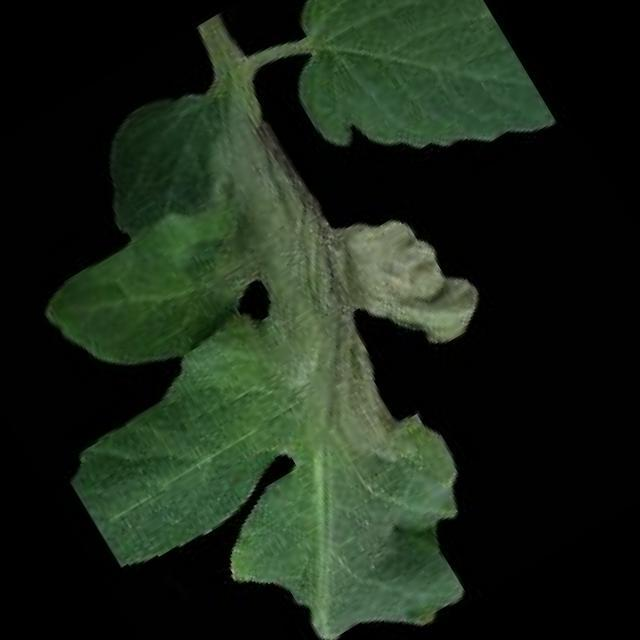Tomato healthy leaf: (240, 0, 557, 233)
Tomato late blight leaf: (0, 6, 615, 640)
